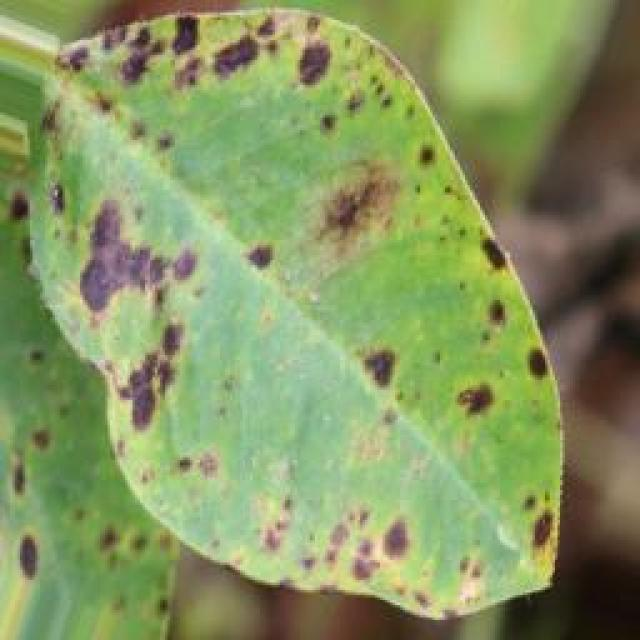Yellowish: (3, 17, 568, 623)
